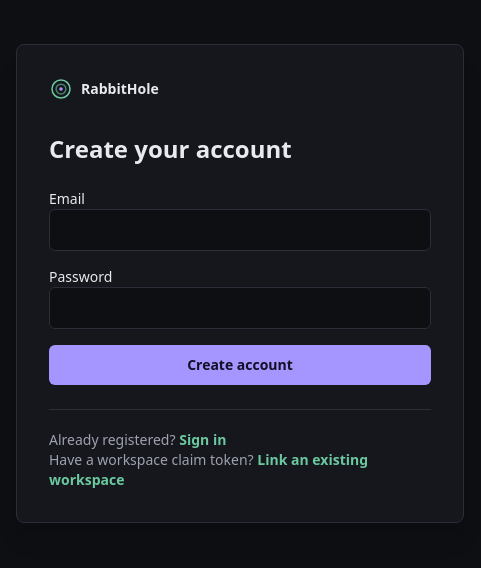
Test: authentication pages › requires email verification when registration returns no session
In the field labelled "Email": (240, 230) [49,208,431,250], type "person@example.com"
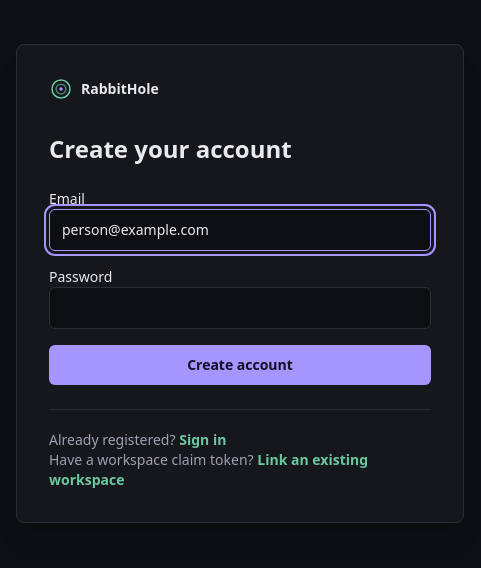
In the password field labelled "Password": (240, 308) [49,286,431,328], type "secret123"
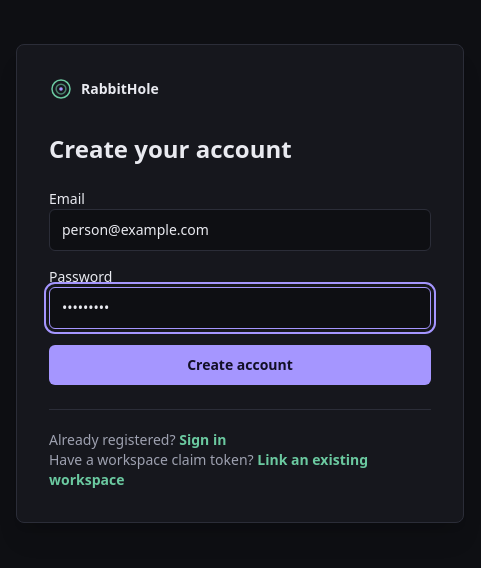
Click the button "Create account": (240, 364) [49,344,431,384]
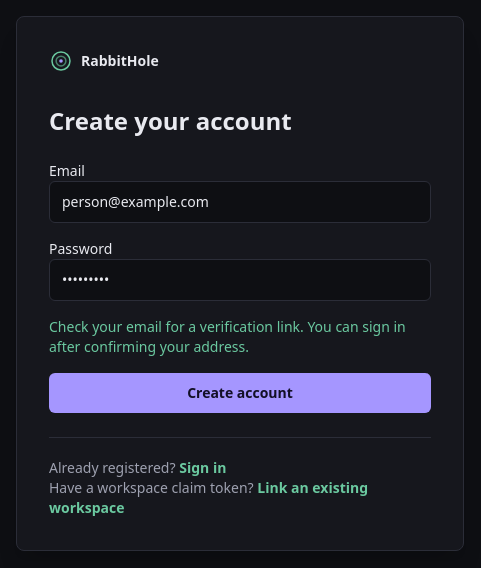
Now the message shows "Check your email for a verification link", box [49,316,406,356]
